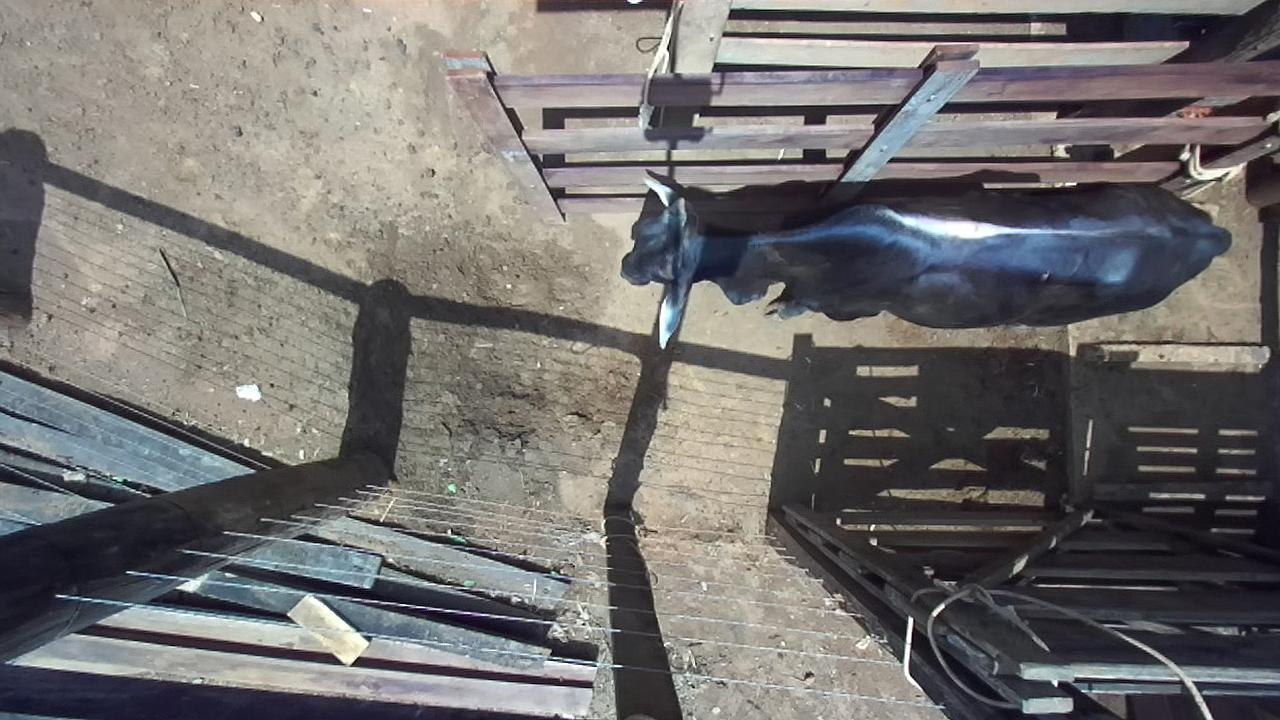cattle: (618, 167, 1232, 350)
